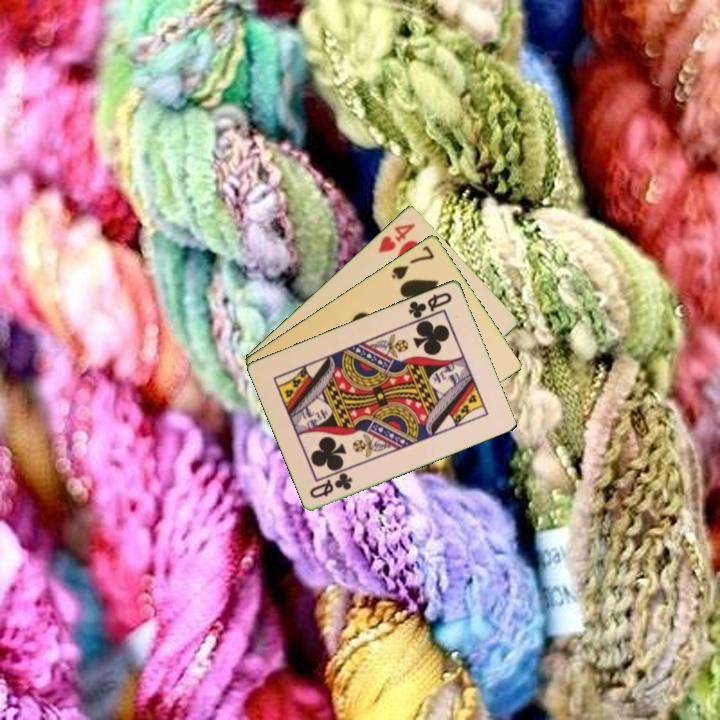4h: (374, 219, 418, 256)
7s: (388, 241, 437, 282)
Qc: (405, 288, 455, 321), (306, 469, 356, 501)
